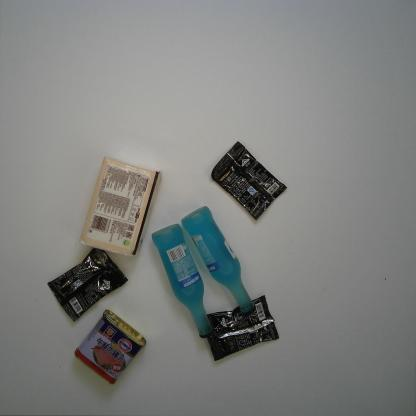Alcohol: (181, 206, 256, 316), (151, 223, 215, 339)
Canned Food: (74, 309, 146, 385)
Instant Drink: (211, 141, 288, 220), (47, 247, 128, 322), (204, 294, 280, 362)
Tissue: (81, 156, 161, 256)
